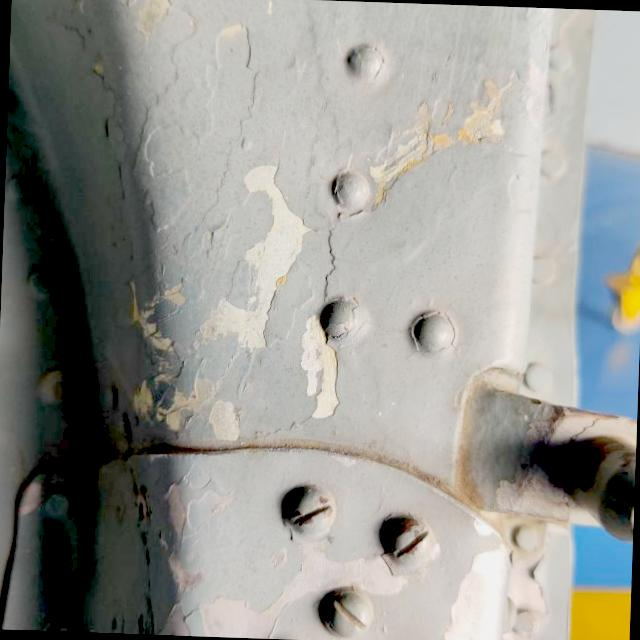paint-off: (109, 138, 384, 465), (362, 64, 516, 212)
